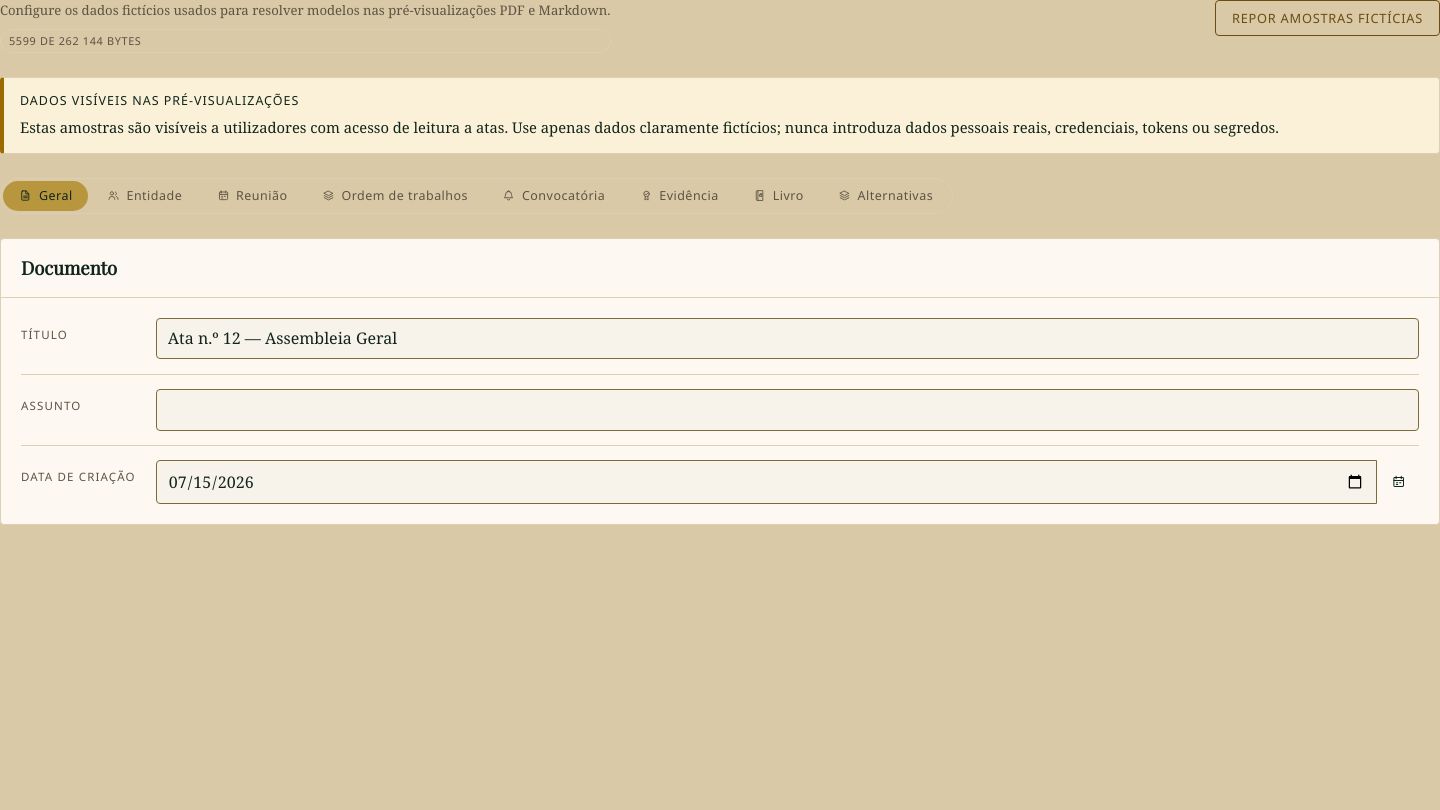
it: TemplatePreviewSamplesPanel › edits family profiles in a portalled modal and applies the typed value
This screenshot has width=1440, height=810.
Click the button "Entidade": point(145, 196) [91, 181, 198, 211]
(page scrolled)
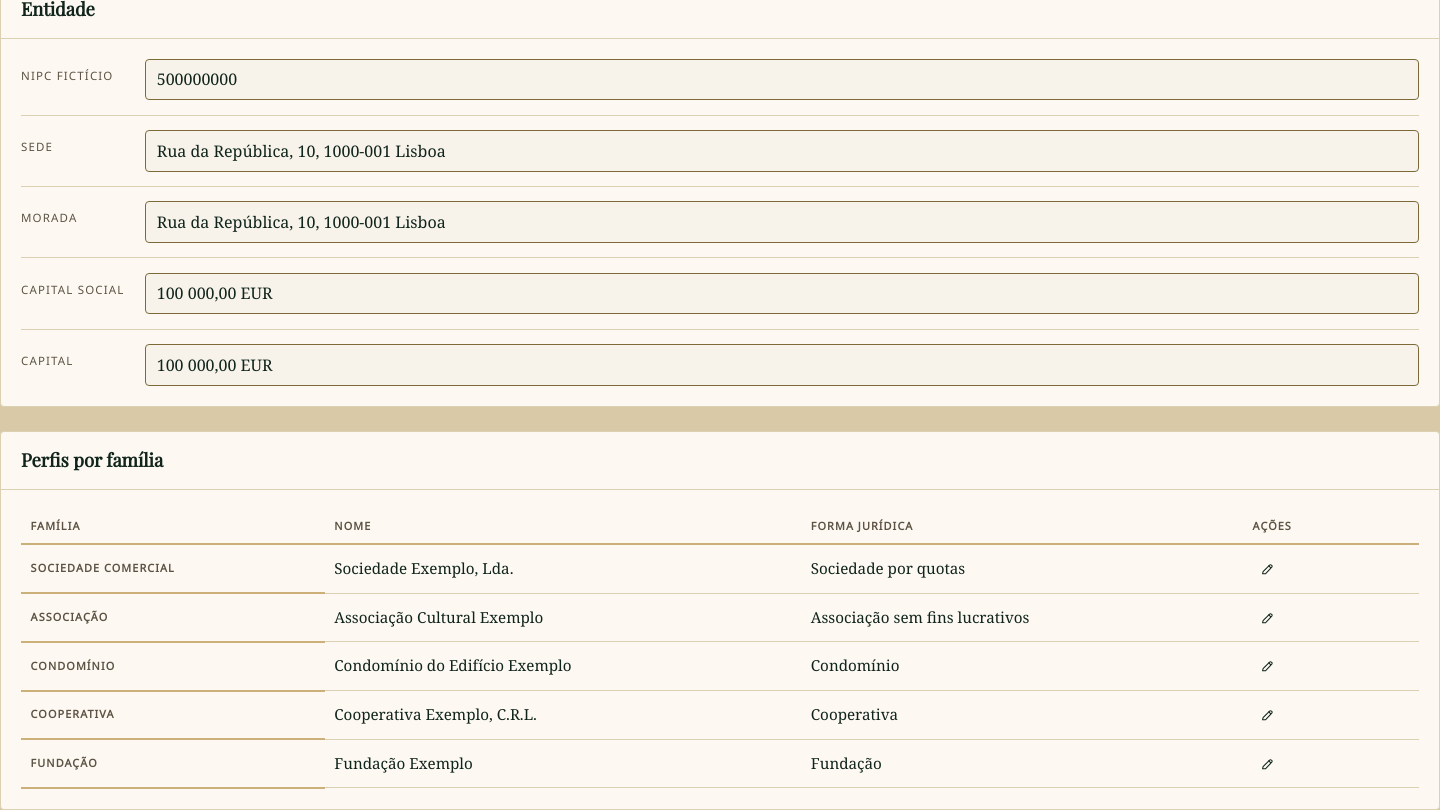
Click the button named "Editar linha 1 de Associação": point(1268, 617) [1253, 602, 1283, 632]
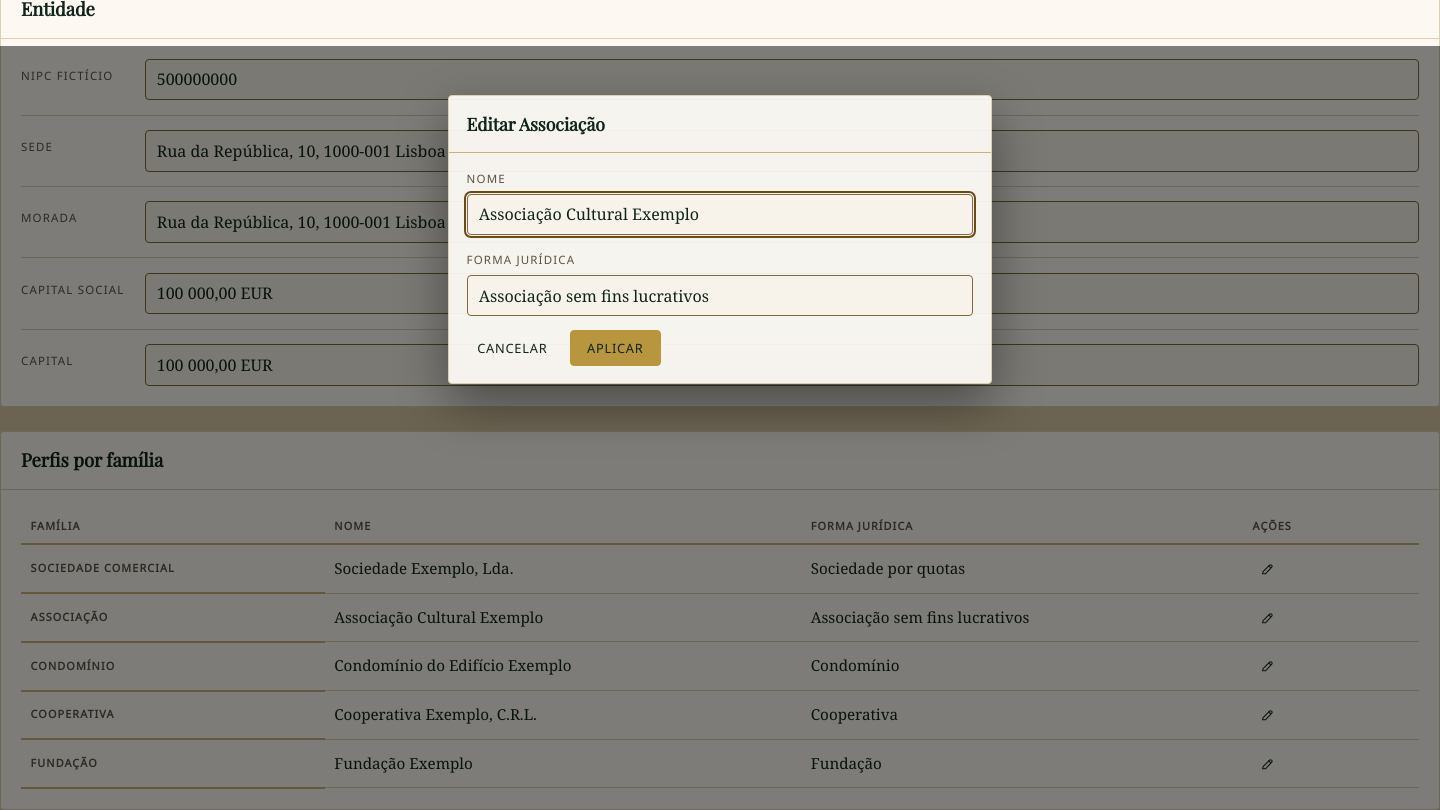
Replace the text in the field labelled "Nome" with "Associação Fictícia Renovada": point(720, 214) [467, 194, 973, 235]
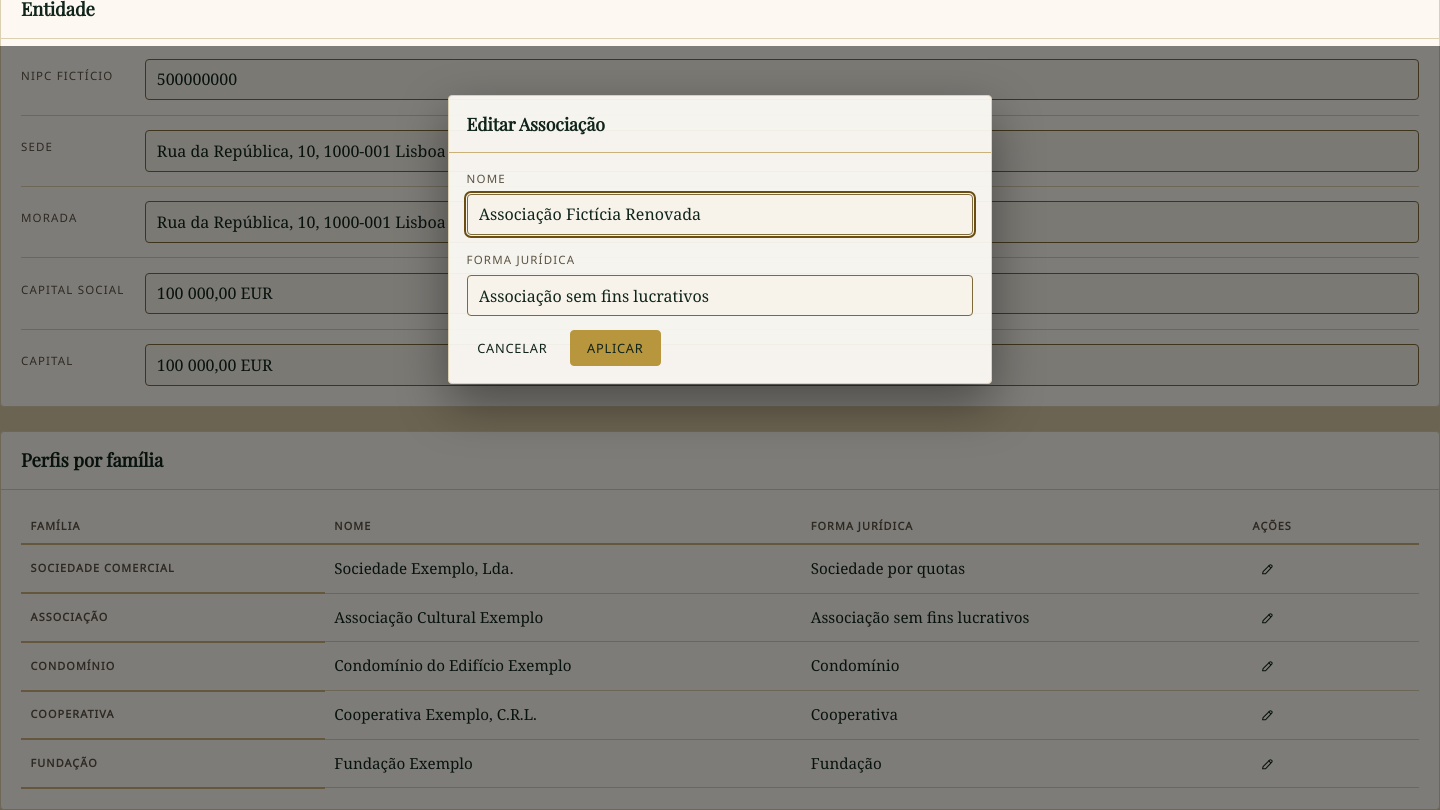
Click the button "Aplicar": point(615, 348) [570, 330, 661, 366]
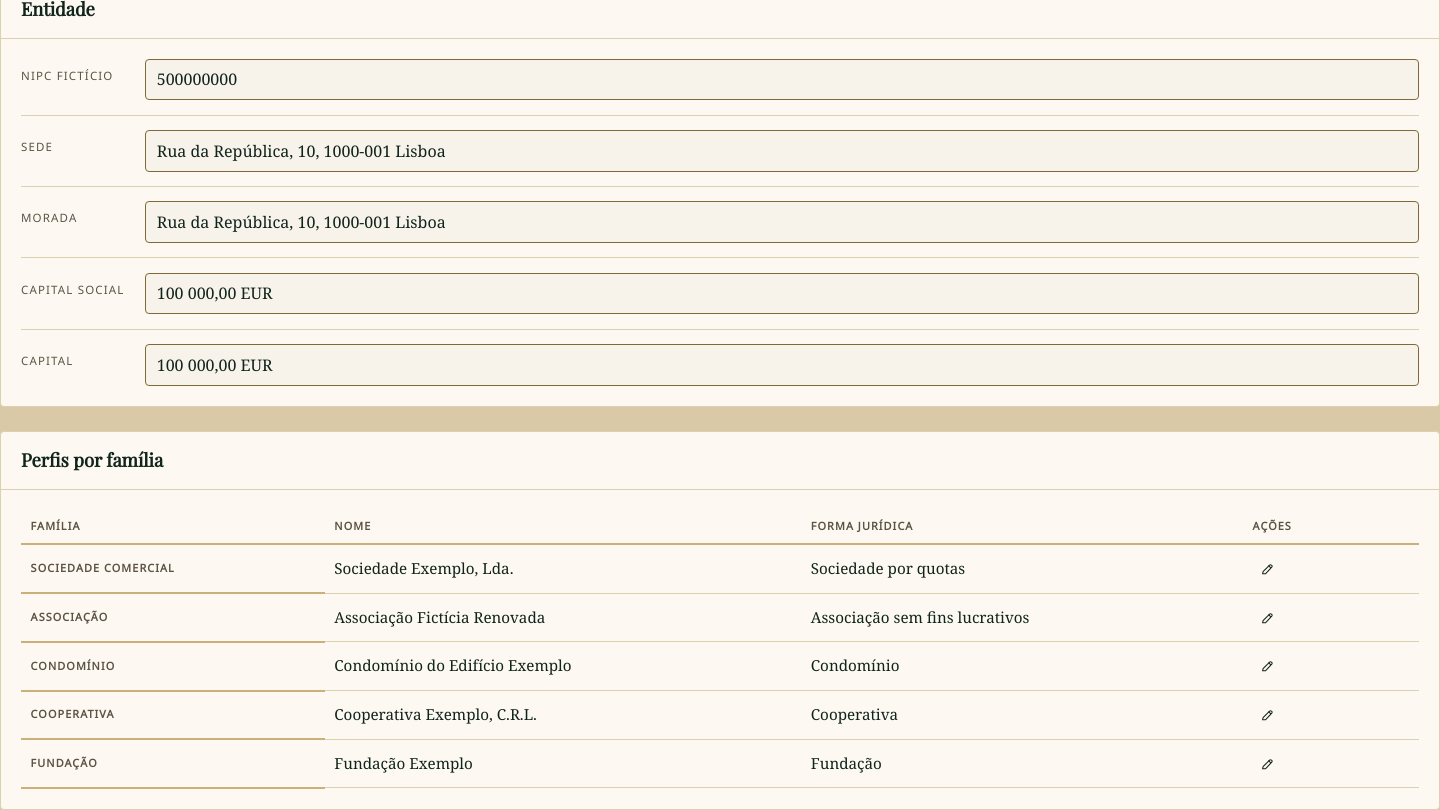
Expected: the text "Associação Fictícia Renovada" is shown, [325, 593, 801, 642]
